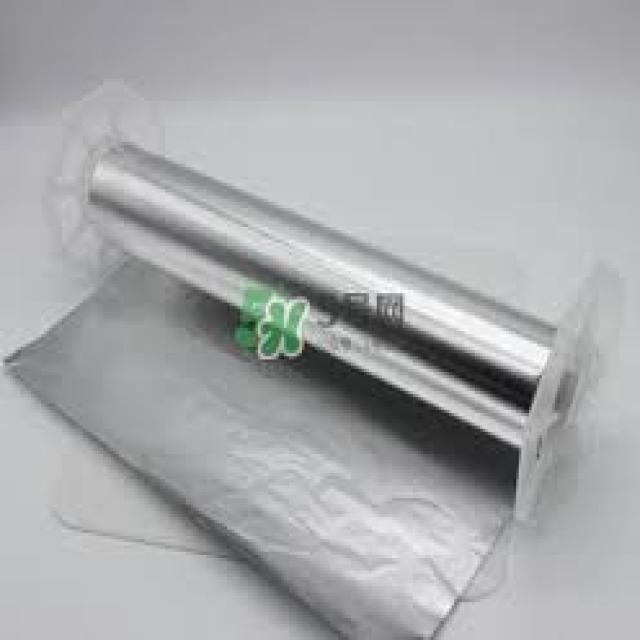metal: (3, 139, 560, 637)
